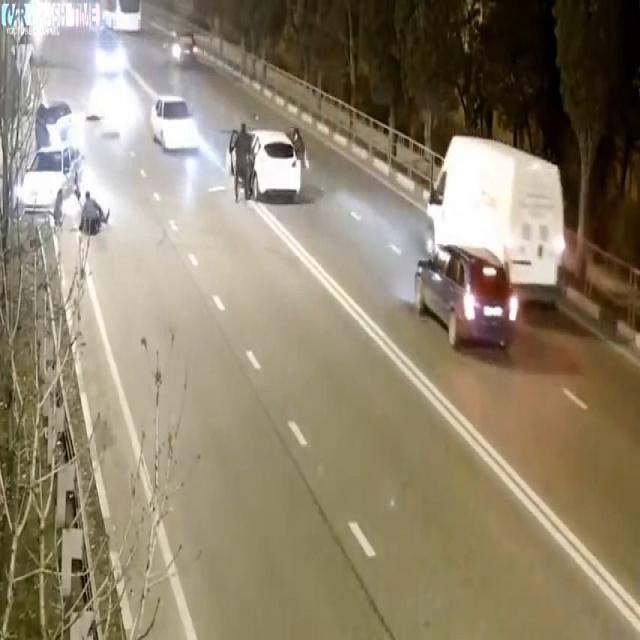Accident: (6, 50, 98, 193)
